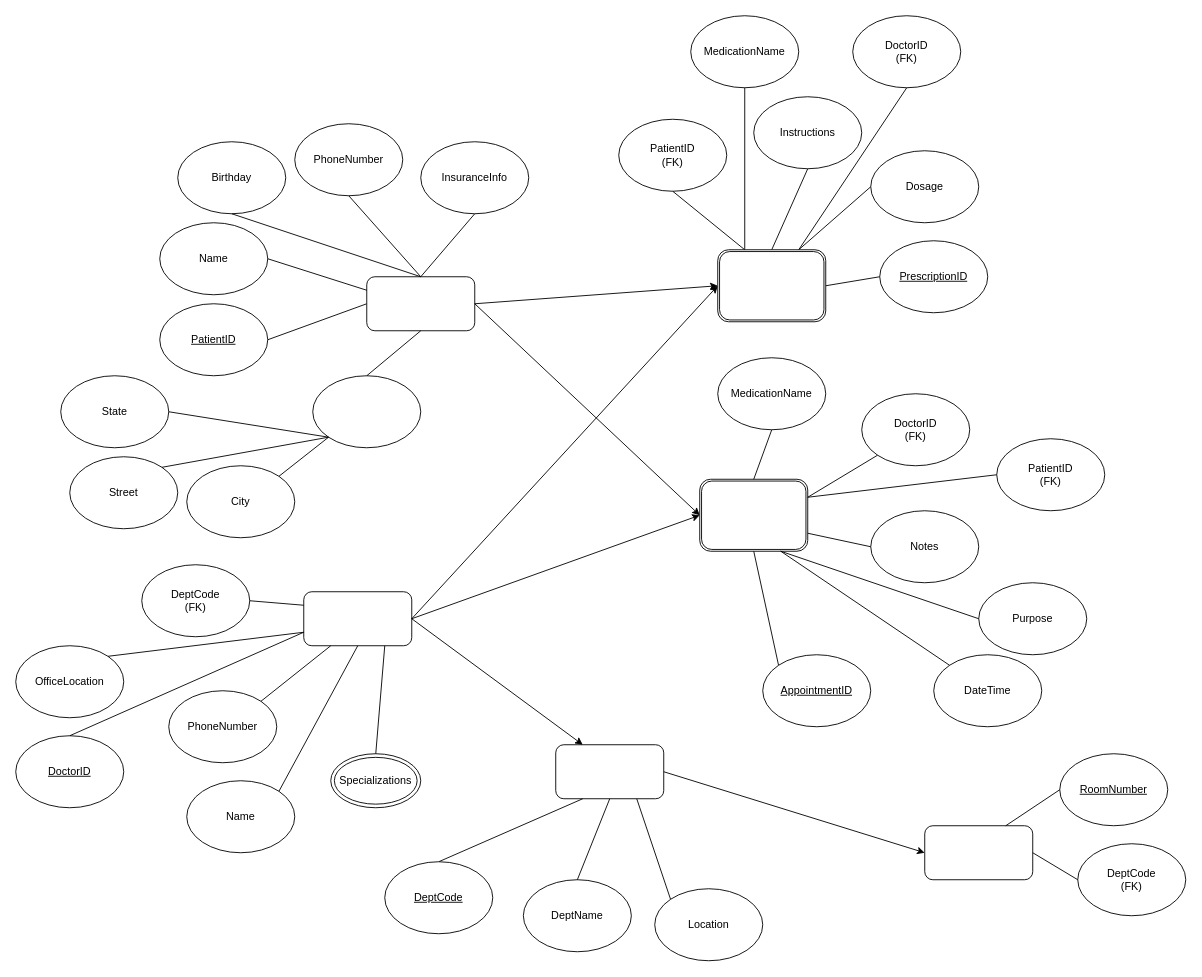
Image size: 1202x977. Some labels were removed from this diagram. Each missing label, with the box of its shape:
(Address): (312, 375, 421, 448)
Appointment: (699, 478, 808, 551)
Department: (555, 744, 664, 799)
Doctor: (303, 591, 412, 646)
HospitalRoom: (924, 825, 1033, 880)
Patient: (366, 276, 475, 331)
Prescription: (717, 249, 826, 322)
